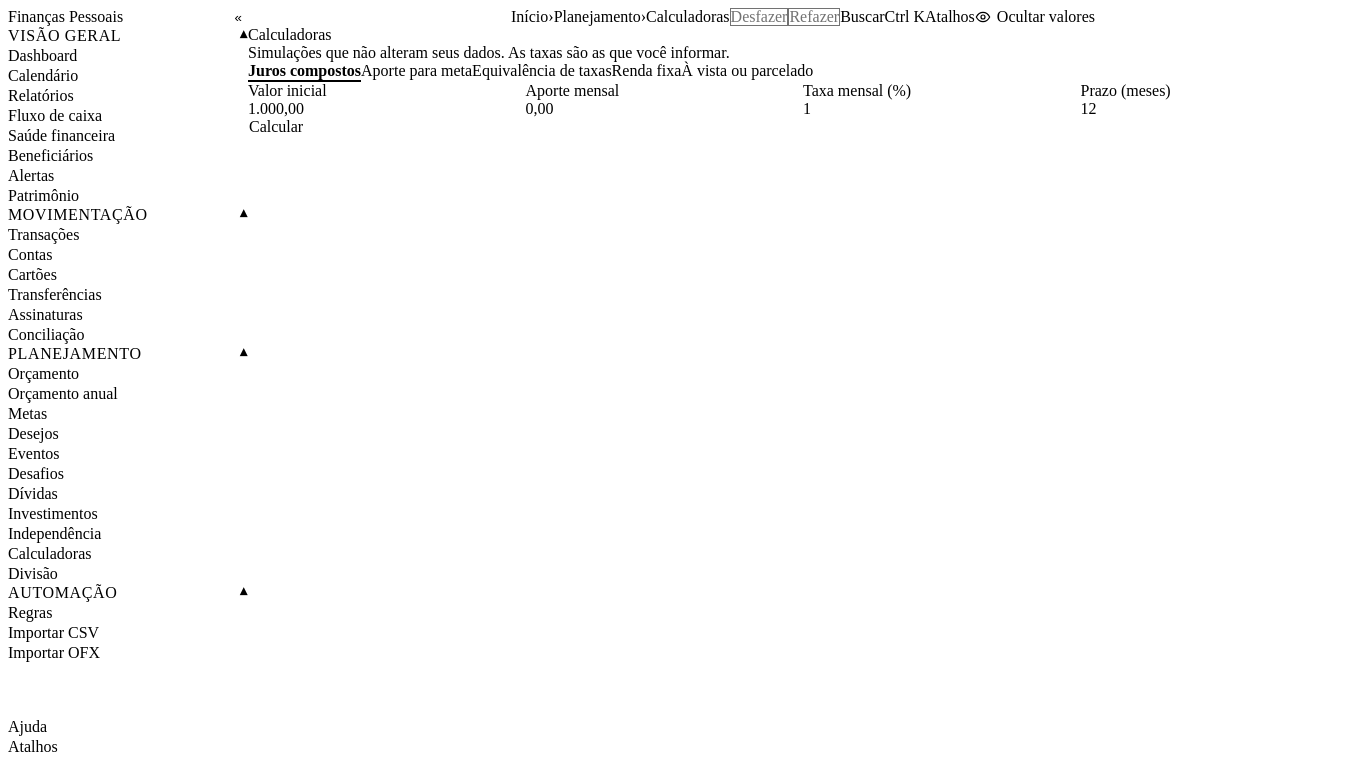
Test: calculadoras: tela › critério 9: erro junto ao campo e sem resultado
Replace the text in the field labelled "Prazo (meses)" with "700". click: {"x": 1219, "y": 109}
box: x1=1080 y1=100 x2=1358 y2=118
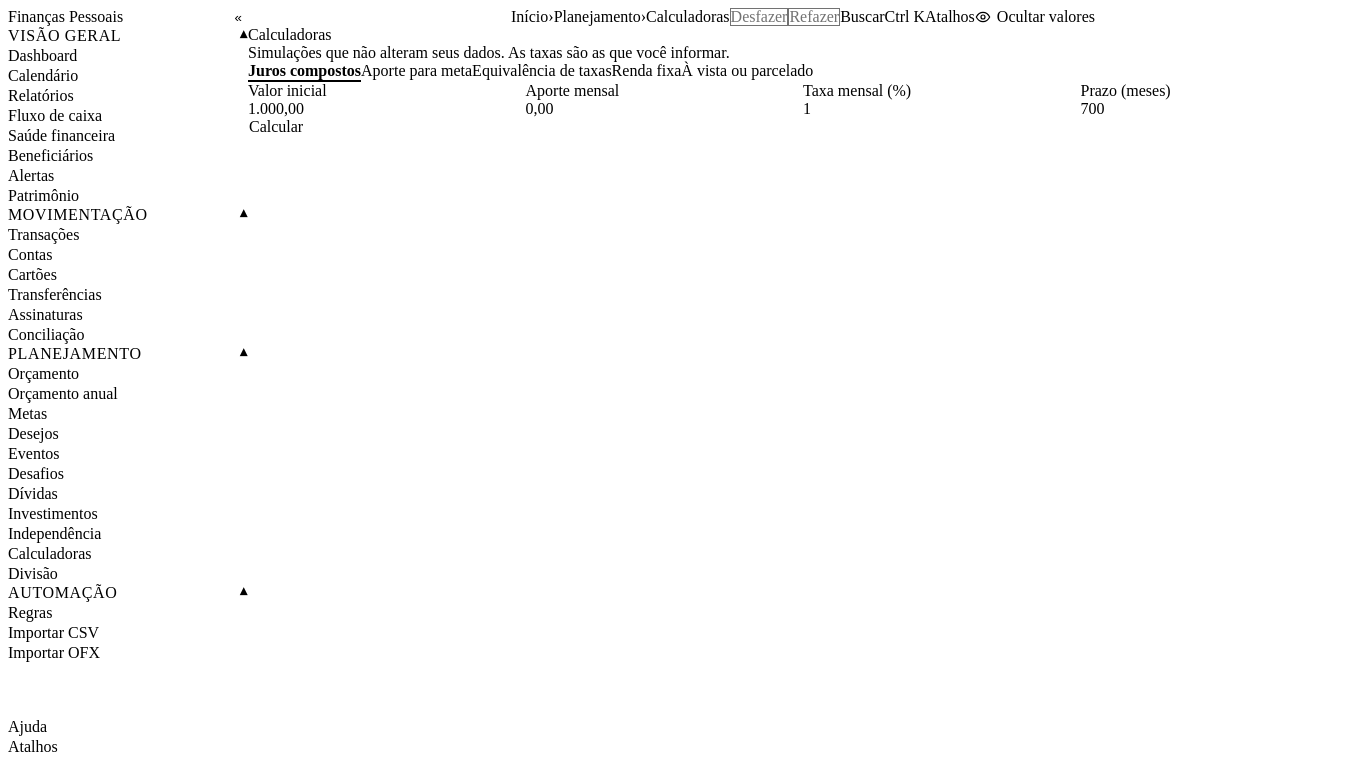
Click the button "Calcular". click: {"x": 276, "y": 127}
box: x1=248 y1=118 x2=304 y2=136
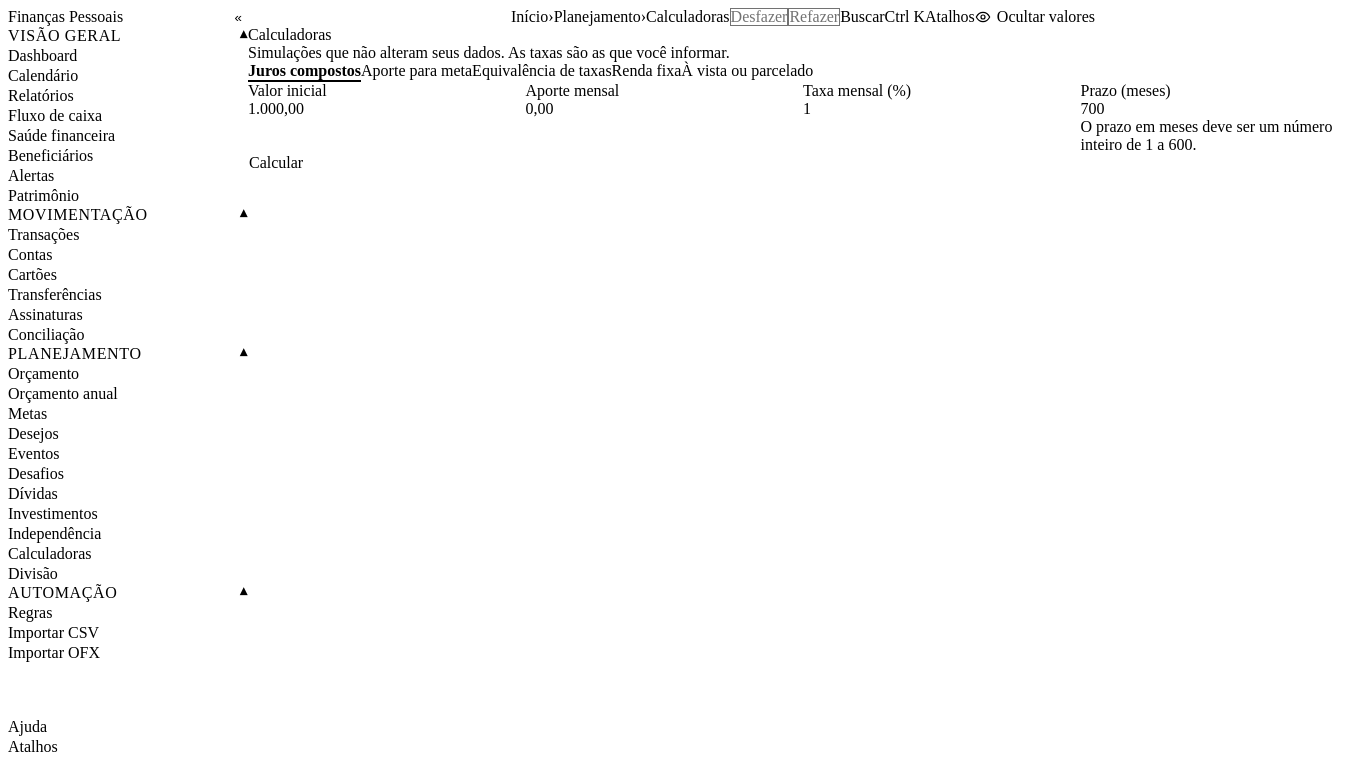
Now the message reads "O prazo em meses deve ser um número inteiro de 1 a 600.", box x1=1080 y1=118 x2=1332 y2=153
